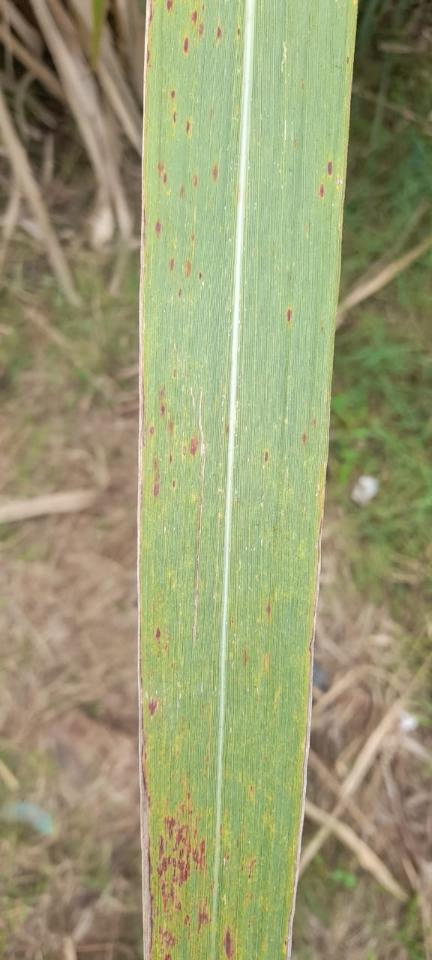Rust: (138, 658, 212, 959), (148, 367, 200, 501), (144, 0, 154, 75), (239, 847, 260, 882), (220, 925, 235, 959), (155, 160, 171, 185), (264, 601, 274, 624), (211, 160, 221, 183), (183, 259, 194, 279), (154, 220, 165, 238), (181, 36, 190, 57), (189, 10, 200, 26), (241, 646, 249, 667), (183, 118, 193, 134), (327, 158, 334, 180), (165, 0, 176, 14), (284, 307, 293, 324), (190, 172, 199, 189), (300, 431, 310, 446), (170, 111, 180, 125), (155, 626, 163, 643), (168, 256, 176, 273), (214, 26, 223, 41), (177, 184, 185, 200), (319, 182, 326, 200), (262, 449, 269, 466), (169, 89, 178, 100), (198, 23, 205, 37), (197, 269, 204, 282), (177, 286, 184, 298), (235, 28, 242, 38)
